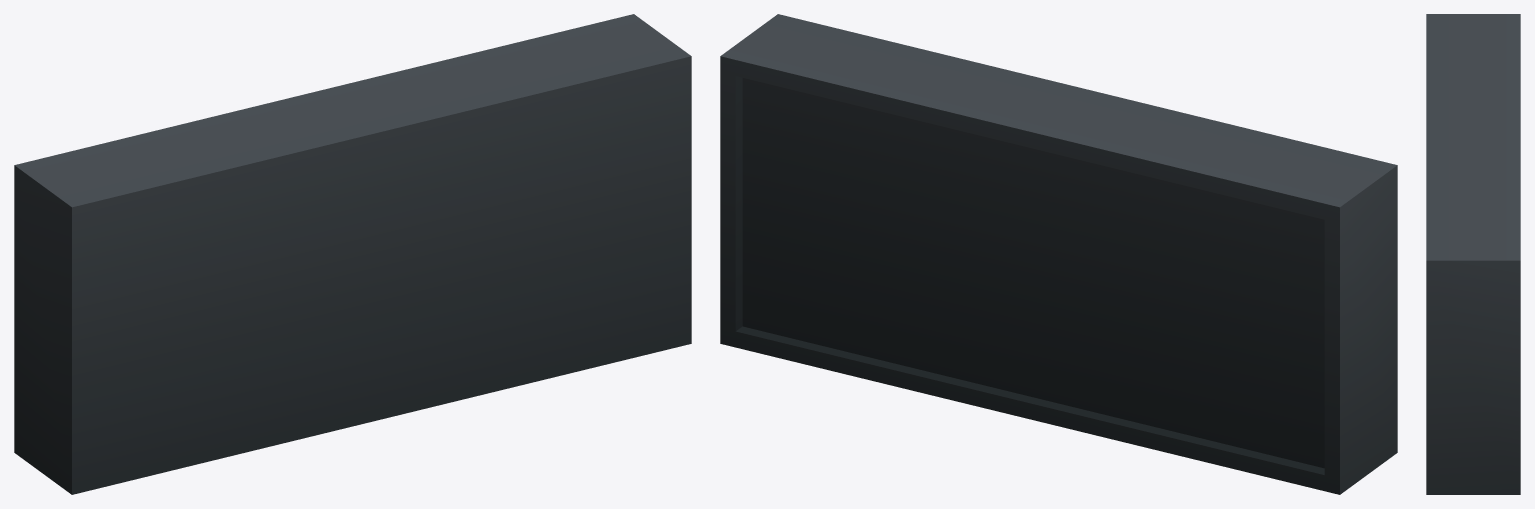
Rendered from squidgame_props_monitor1.fbx.
3 renders of one model, left to right at view 1: azimuth 30°, elevation 25°; view 2: azimuth 150°, elevation 25°; view 3: azimuth 270°, elevation 25°, orthographic. The views are drawn at different scales.
Parts seen in each view (by area): view 1: squidgame_props_monitor1; view 2: squidgame_props_monitor1; view 3: squidgame_props_monitor1.
Part boxes in pixels (bbox=[...]): squidgame_props_monitor1: bbox=[14, 14, 691, 494]; squidgame_props_monitor1: bbox=[720, 14, 1397, 494]; squidgame_props_monitor1: bbox=[1426, 14, 1520, 494].
Size of the model in its own units: 4.62 by 2.05 by 0.7458.
